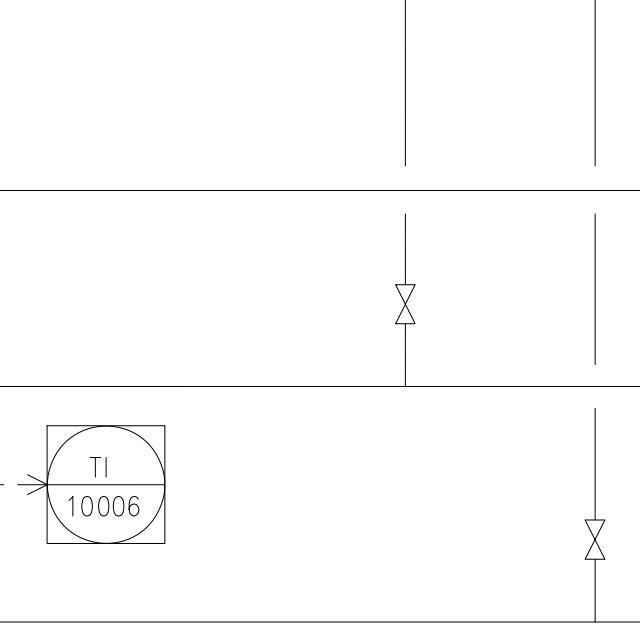GV: (389, 279, 419, 330), (580, 513, 610, 564)
